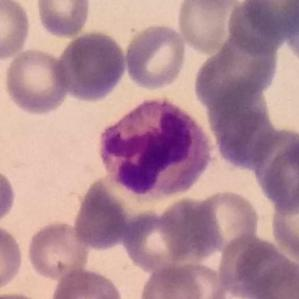Neutrophil: (93, 93, 217, 204)
RBC: (121, 201, 221, 276), (192, 30, 282, 112), (206, 88, 278, 170), (53, 29, 130, 103), (186, 188, 262, 253), (2, 46, 71, 117), (122, 22, 189, 92), (72, 180, 131, 252), (25, 219, 91, 281), (231, 241, 298, 298), (175, 0, 245, 54), (256, 133, 299, 214), (135, 261, 222, 299), (48, 266, 126, 299), (268, 183, 299, 264), (238, 0, 299, 40), (34, 0, 92, 39), (0, 0, 33, 61), (0, 222, 26, 295), (203, 281, 290, 299), (280, 0, 298, 66), (0, 164, 18, 228)
